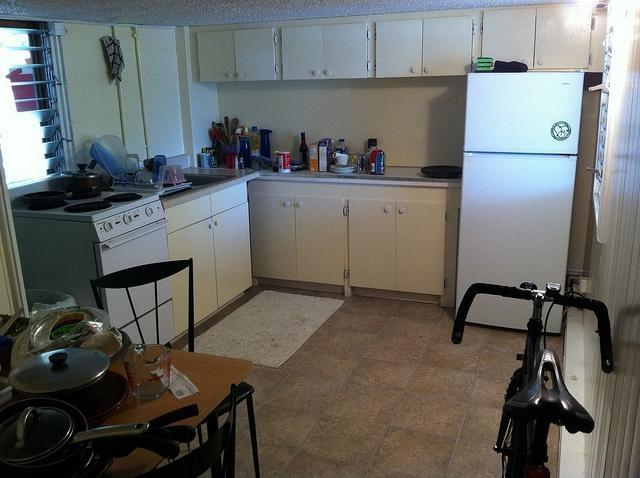bicycle: (454, 281, 616, 467)
